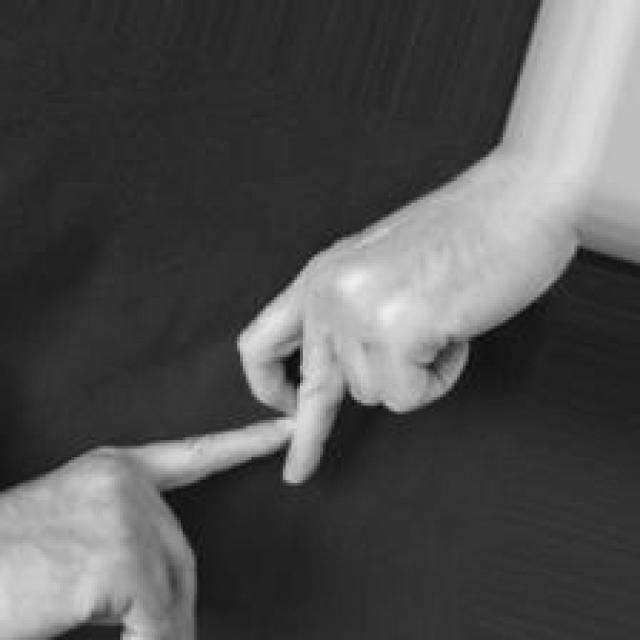R: (2, 222, 483, 640)
